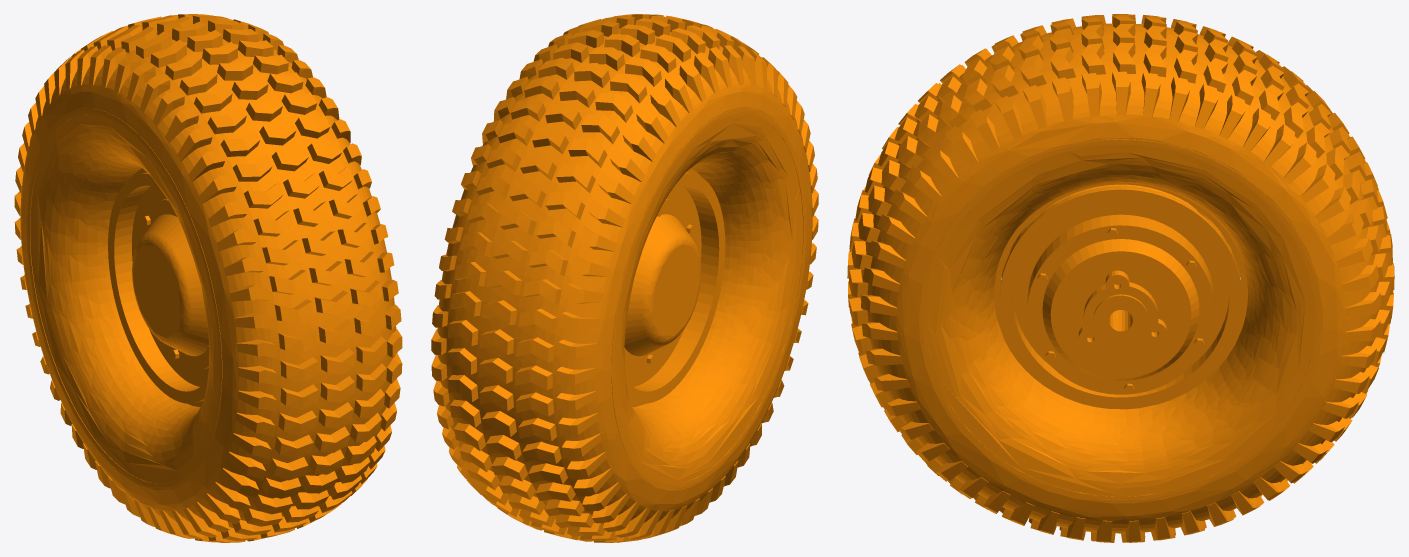
Rendered from centered_wheel_m.dae.
3 views of the same model, side by side, from view 1: azimuth 30°, elevation 25°; view 2: azimuth 150°, elevation 25°; view 3: azimuth 270°, elevation 25° (orthographic). The views are drawn at different scales.
Parts seen in each view (by area): view 1: Right_wheel_mm; view 2: Right_wheel_mm; view 3: Right_wheel_mm.
Part boxes in pixels (<box>): Right_wheel_mm: <box>14,14,402,542</box>; Right_wheel_mm: <box>431,14,818,542</box>; Right_wheel_mm: <box>847,14,1394,542</box>.
Size of the model in its own units: 0.1338 by 0.366 by 0.3658.
